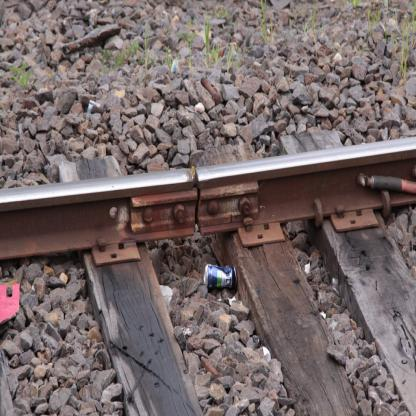Defective: (96, 156, 292, 262)
